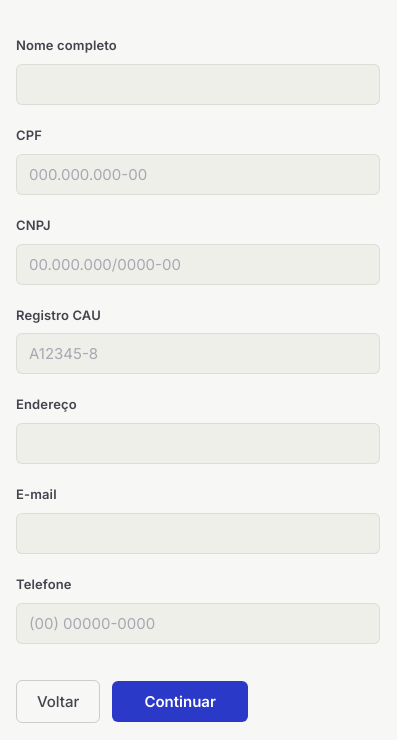
Test case: ArchitectFormPage › clicking Continue with all fields empty shows error messages
(page scrolled)
Click the button "Continuar" at (180, 701), box 112,681 -> 248,722
(page scrolled)
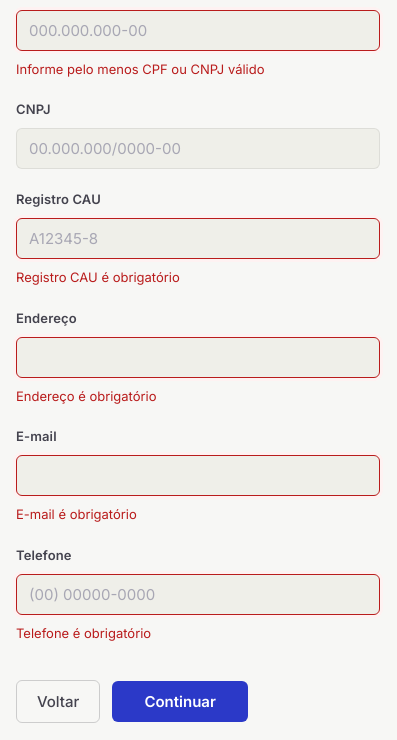
Result: the text "Informe pelo menos CPF ou CNPJ válido" is shown at 16,61 -> 264,77
Result: the text "Registro CAU é obrigatório" is shown at 16,269 -> 180,285
Result: the text "Endereço é obrigatório" is shown at 16,388 -> 156,404
